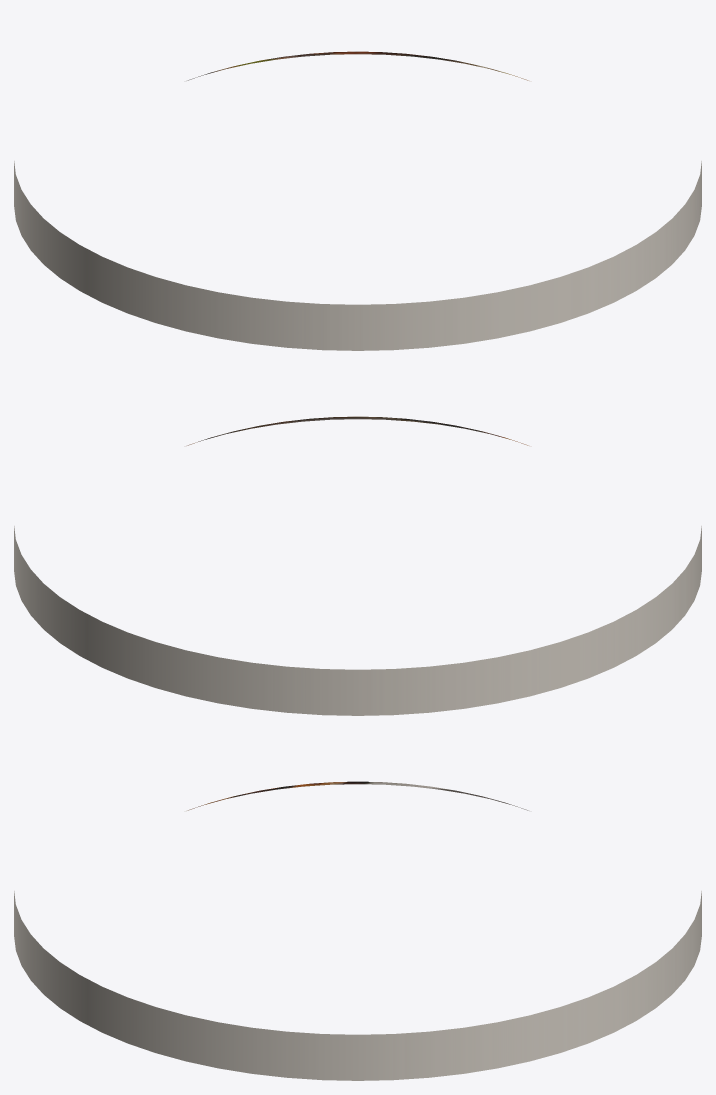
The model's file is chicken-tikka.glb.
3 views of the same model, one above another, from view 1: azimuth 30°, elevation 25°; view 2: azimuth 150°, elevation 25°; view 3: azimuth 270°, elevation 25° (orthographic).
Visible parts, largest first — view 1: chicken-tikka; view 2: chicken-tikka; view 3: chicken-tikka.
Boxes of the visible parts, bbox=[...] form: chicken-tikka: bbox=[14, 51, 701, 350]; chicken-tikka: bbox=[14, 416, 701, 715]; chicken-tikka: bbox=[14, 781, 701, 1080].
Bounding box in the file's own units: 0.27 × 0.0443 × 0.27.
Materials: 1 (1 with a texture image).
